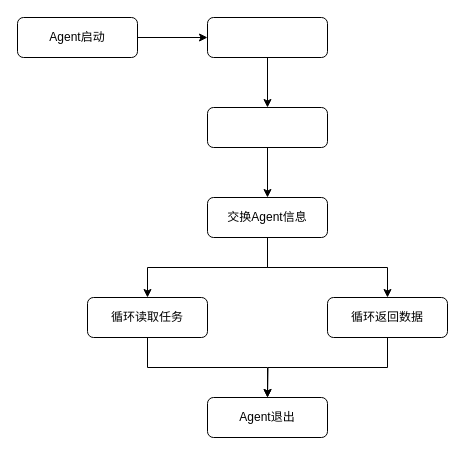
Some shapes in this 465 by 455 pixel diagram are drawn without their labels. The centre of each missing label's shape, as x and y in pixels:
"创建WebSocket连接" belongs at point 267,127.
"初始化" belongs at point 267,37.
